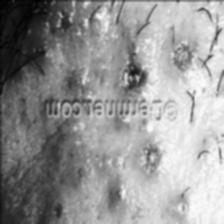Toxin: (35, 0, 207, 96), (41, 120, 196, 224)
